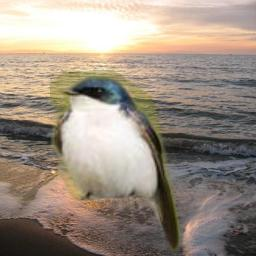Swallow: (50, 70, 180, 250)
